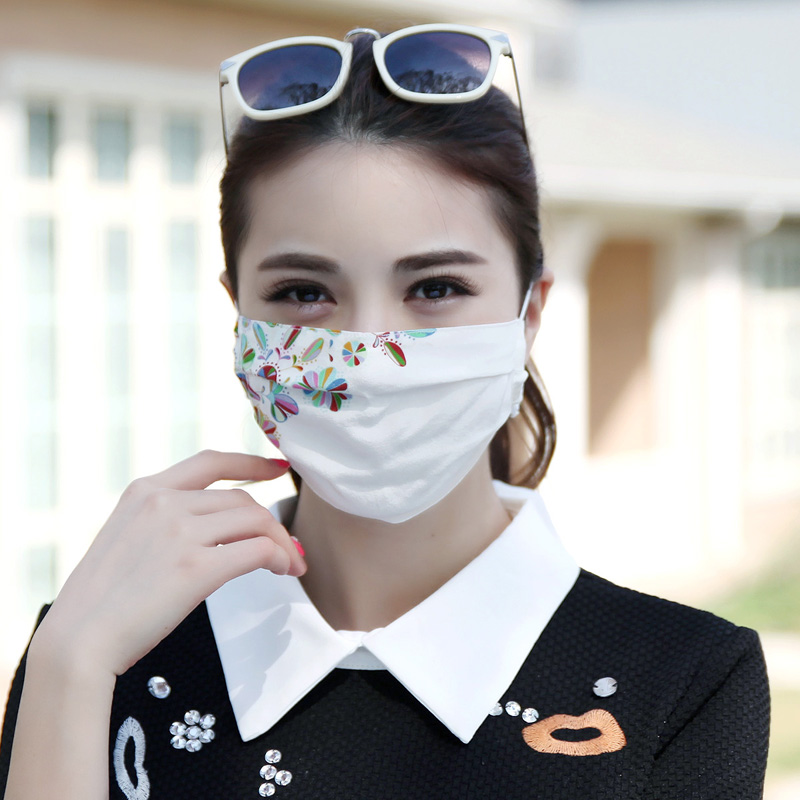face_mask: (233, 139, 518, 506)
